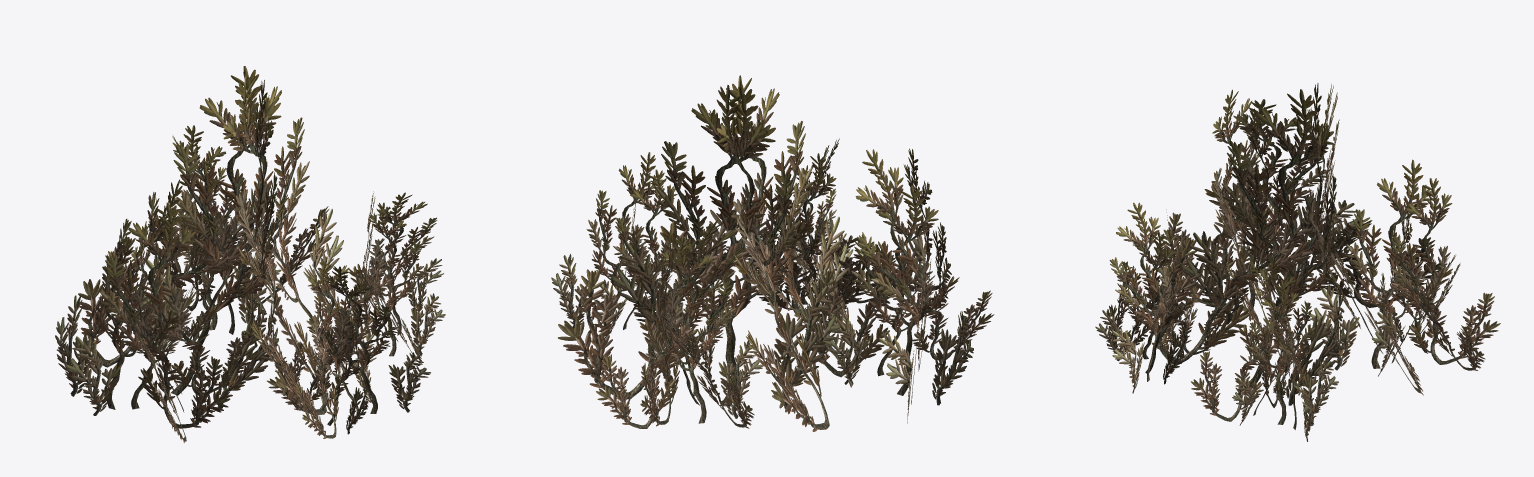
Rendered from Arbusto_de_pino01.fbx.
The picture shows the model from 3 angles, left to right: view 1: azimuth 30°, elevation 25°; view 2: azimuth 150°, elevation 25°; view 3: azimuth 270°, elevation 25°; orthographic projection. The views are drawn at different scales.
Visible parts, largest first — view 1: Arbusto_de_pino01; view 2: Arbusto_de_pino01; view 3: Arbusto_de_pino01.
Boxes of the visible parts, x1=… form: Arbusto_de_pino01: x1=55, y1=66, x2=445, y2=442; Arbusto_de_pino01: x1=551, y1=75, x2=994, y2=431; Arbusto_de_pino01: x1=1095, y1=83, x2=1500, y2=441.
Bounding box in the file's own units: 949 × 625 × 883.
